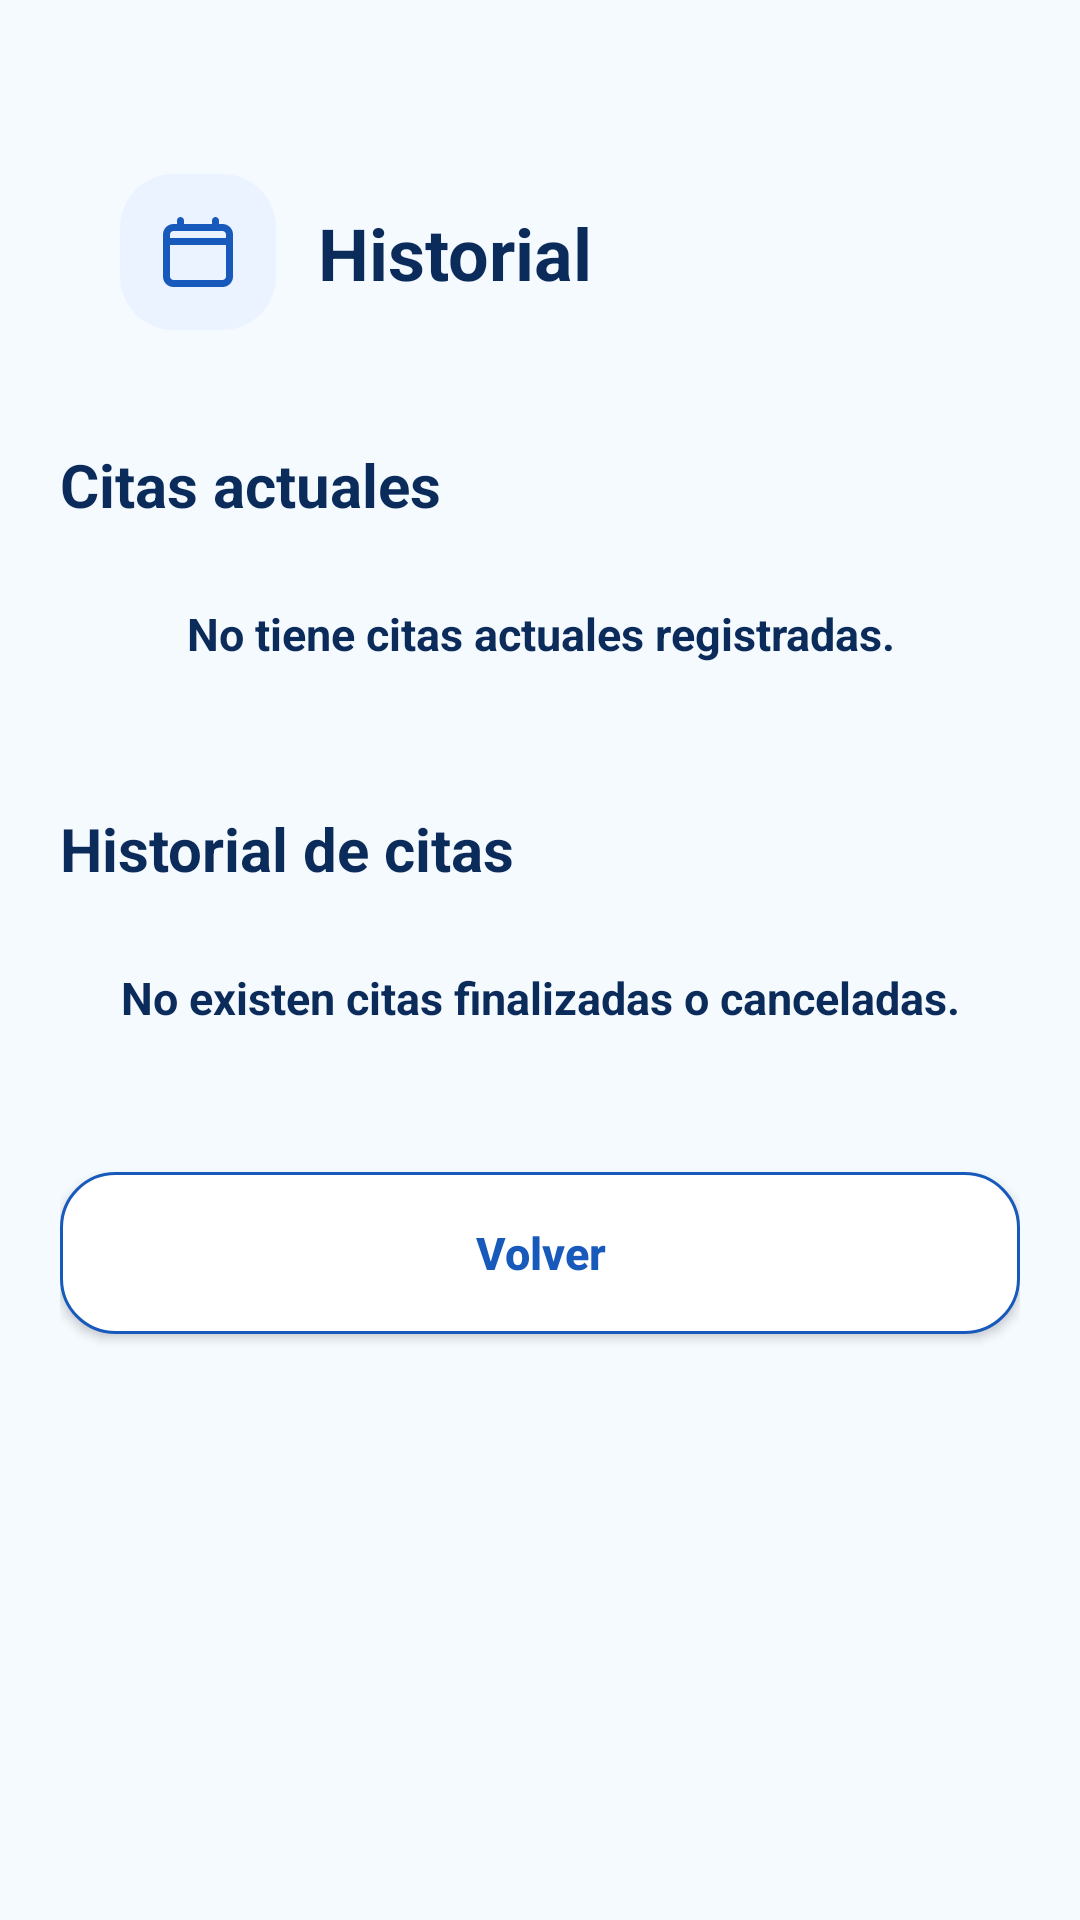

Point at icon controls on the screen. Image size 1080px×1920px, points as [x,y].
calendar moderno: [198,252]
